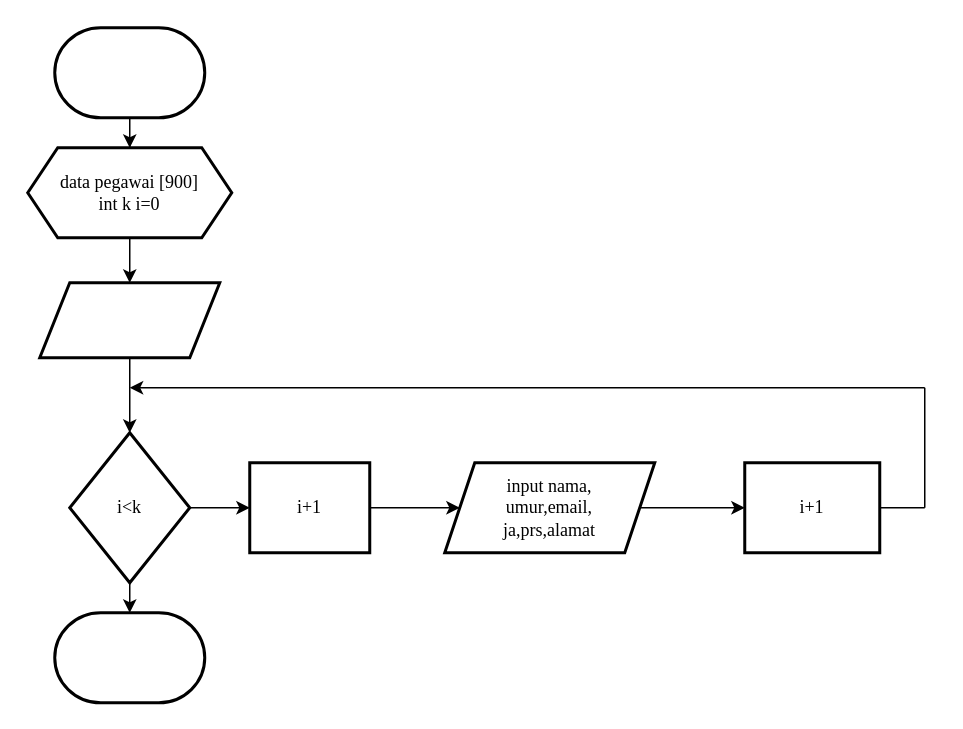
Some shapes in this 963 by 729 pixel diagram are drawn without their labels. The box of each missing label's shape, as (x1, y1, x2, y2) in pixels:
input k: (38, 280, 220, 358)
mulai: (52, 26, 206, 118)
selesai: (52, 610, 206, 704)
